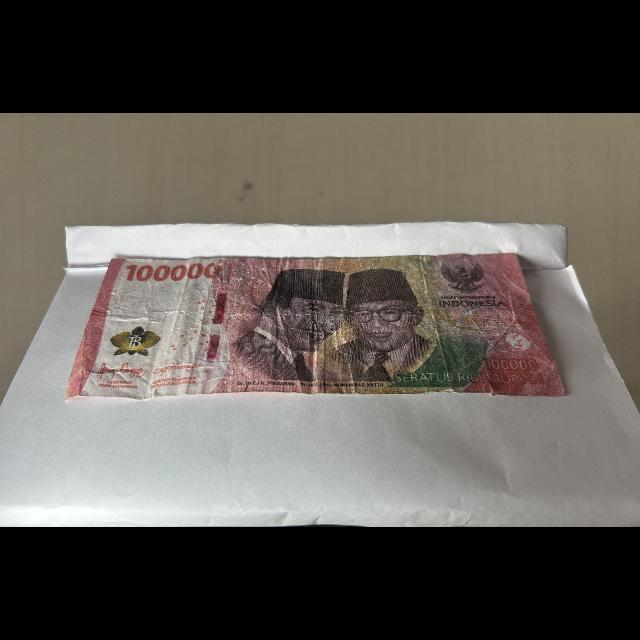Palsu-100k: (57, 250, 571, 404)
Tinta-Palsu-100k: (106, 325, 164, 359)
